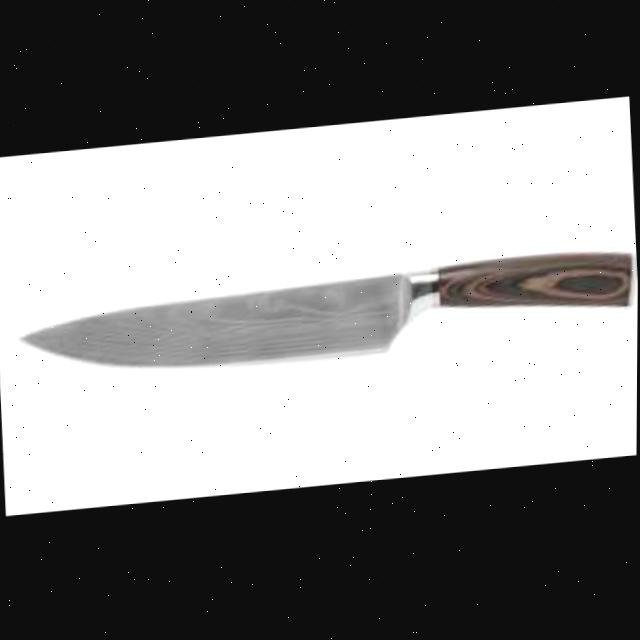Knife: (17, 247, 638, 387)
